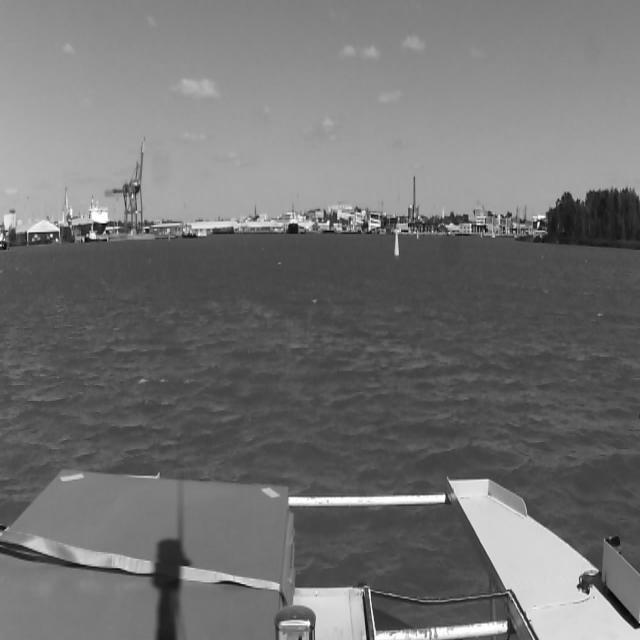buoy: (393, 224, 401, 261), (415, 228, 419, 240), (167, 232, 171, 243)
ship: (70, 202, 102, 240), (286, 204, 298, 238)
